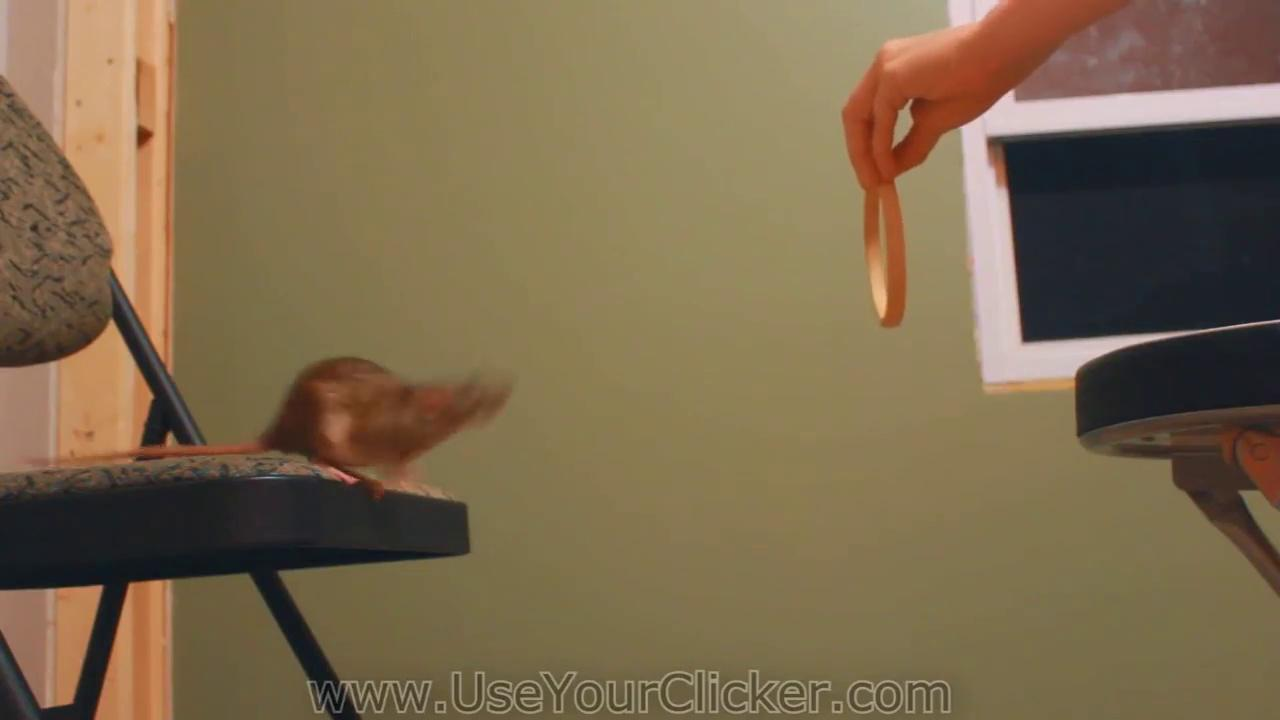rat: (53, 353, 514, 501)
